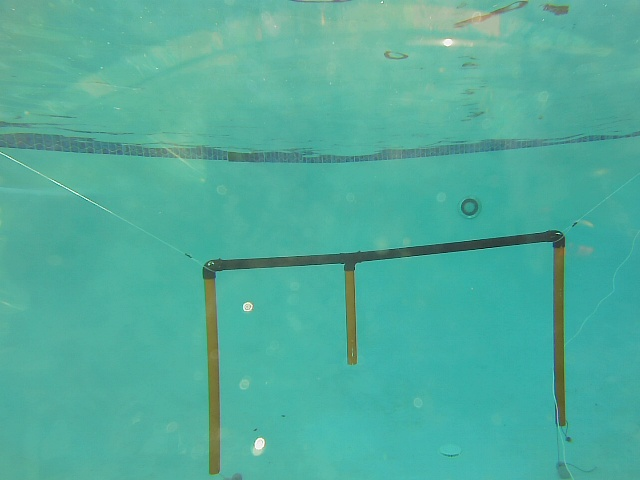Gate: (199, 275, 226, 477), (550, 242, 573, 429), (343, 267, 360, 365)
